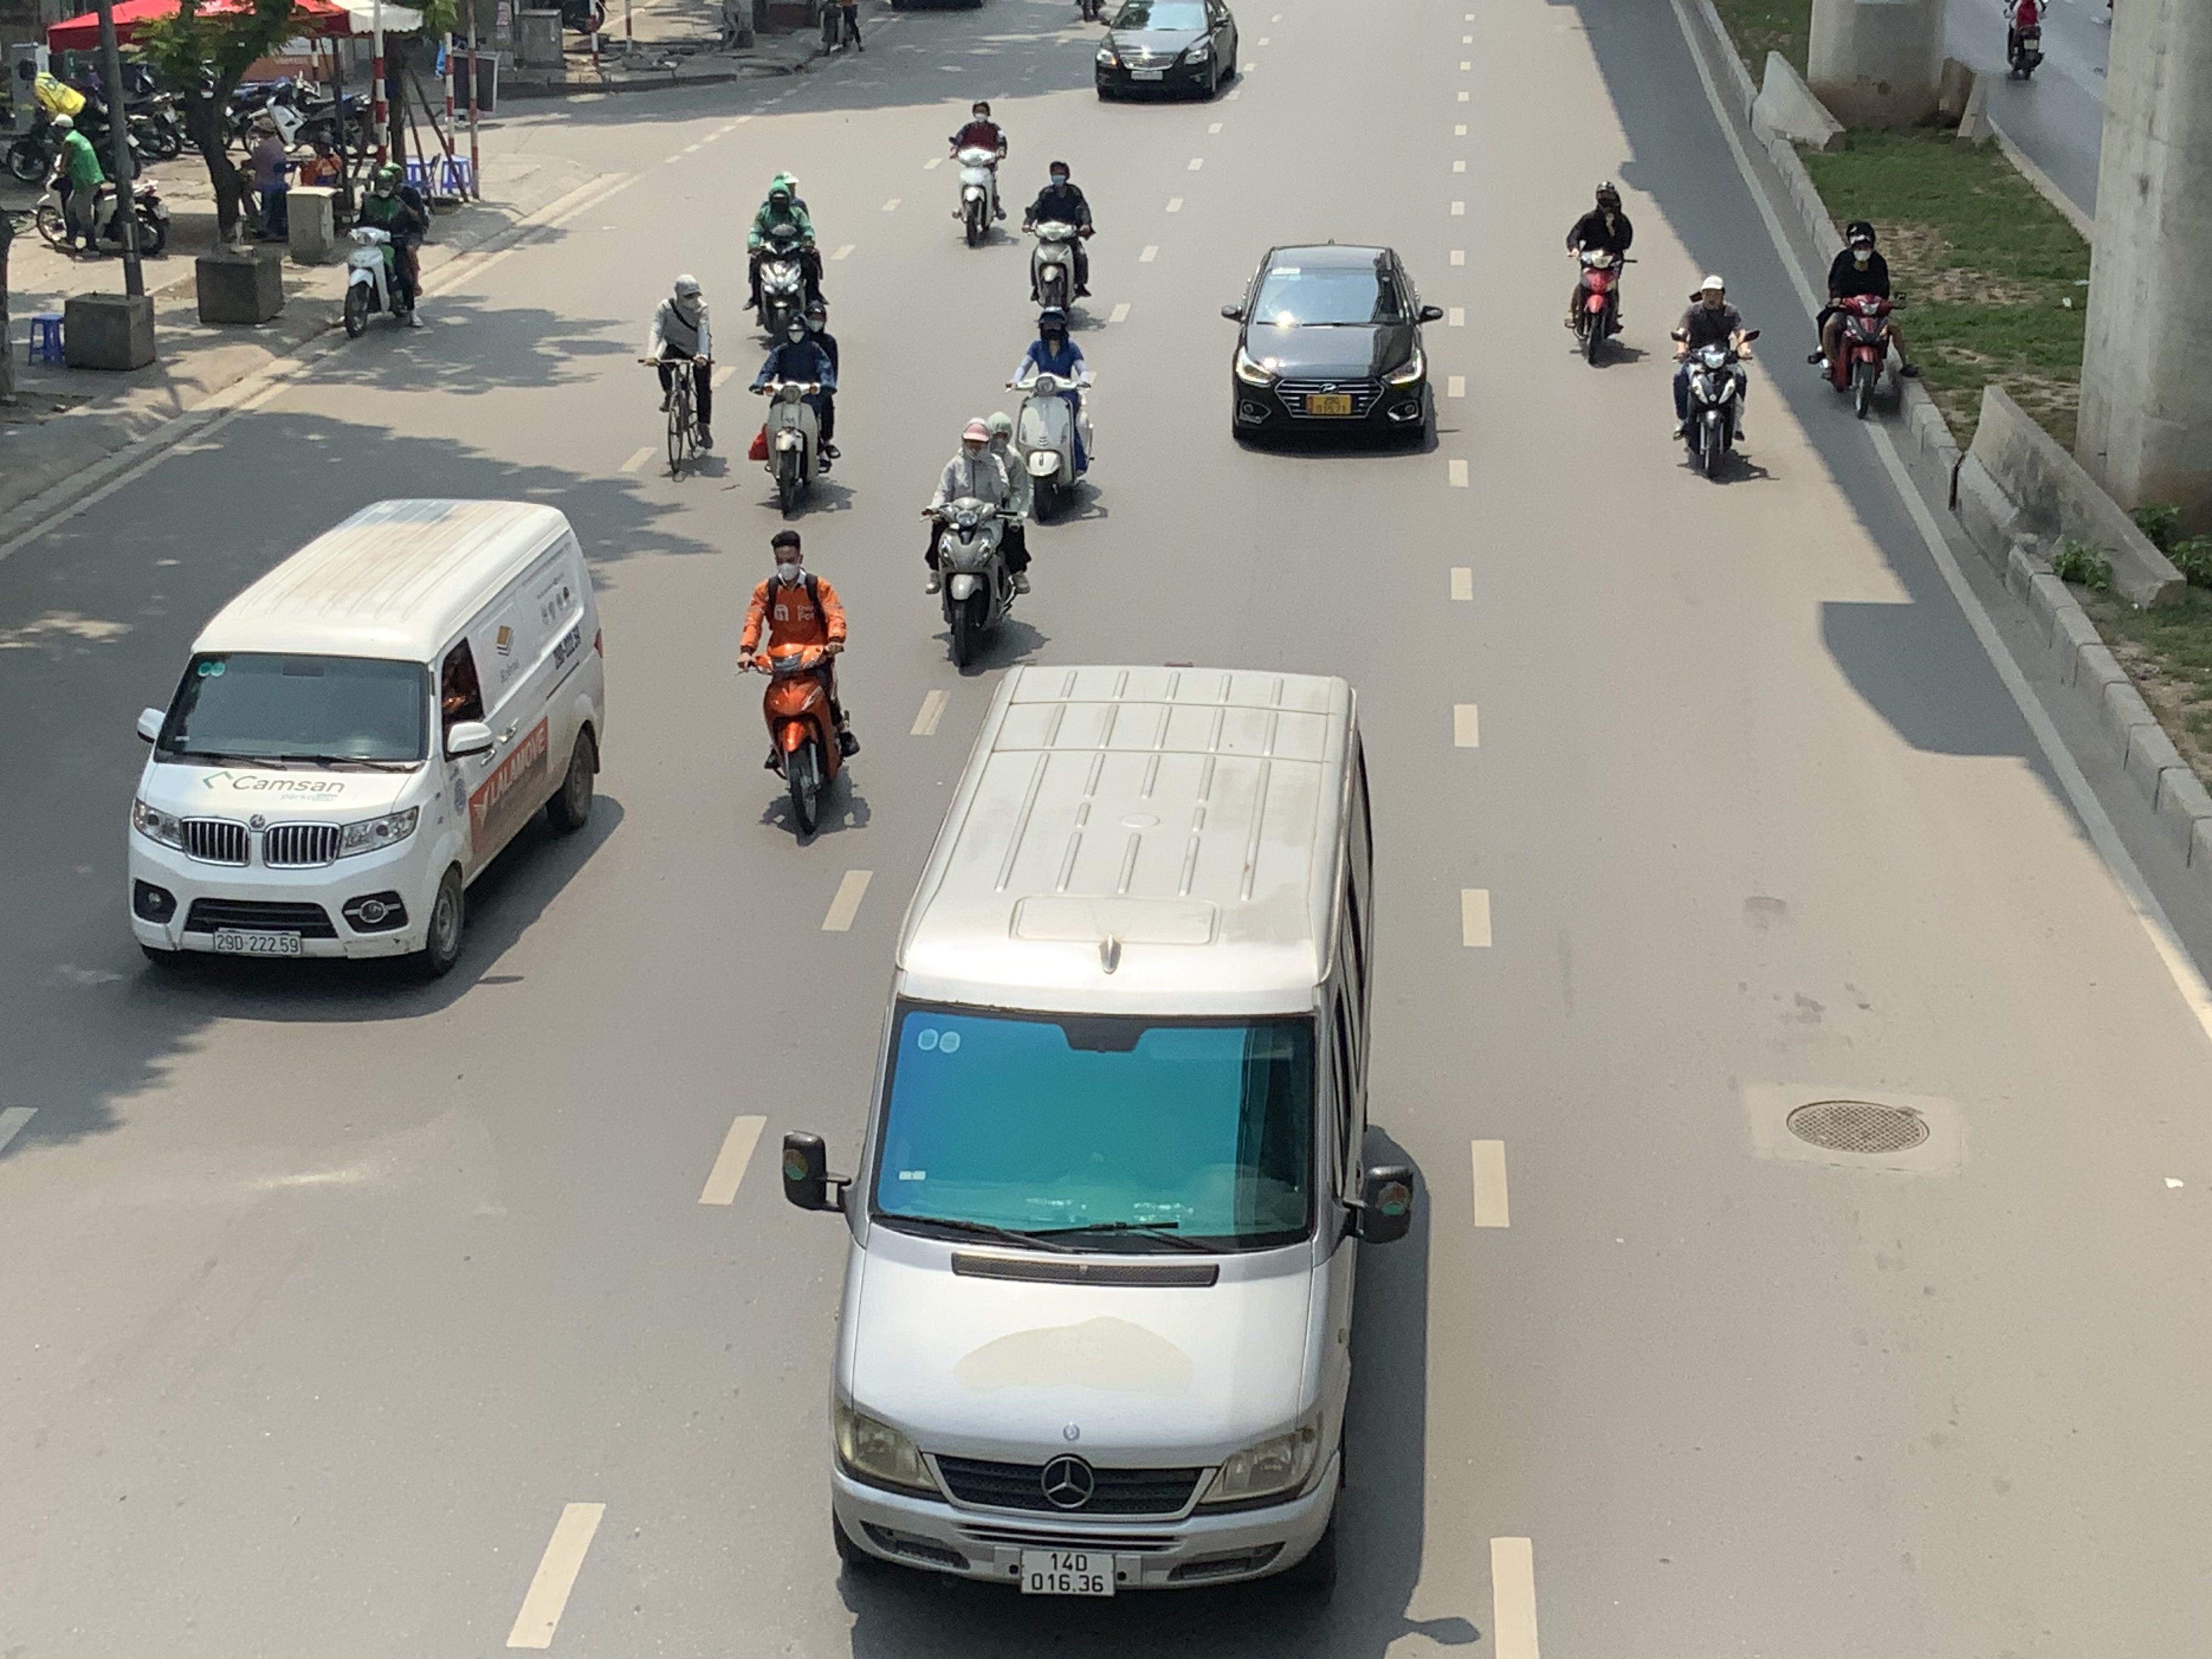BSD: (216, 931, 303, 955)
BSV: (1019, 1547, 1116, 1596), (1310, 394, 1352, 415)
bus: (780, 664, 1404, 1598)
car: (125, 497, 608, 979), (1221, 242, 1446, 451), (1094, 0, 1240, 105)
motorbike: (742, 526, 860, 847), (921, 418, 1031, 676), (31, 112, 169, 260), (1005, 307, 1097, 523), (1810, 220, 1909, 420), (749, 308, 840, 518), (1670, 272, 1757, 483), (644, 274, 721, 479), (340, 167, 427, 338), (744, 173, 829, 343), (1566, 185, 1634, 368), (1024, 159, 1096, 315), (948, 99, 1010, 247), (2000, 0, 2050, 80)
